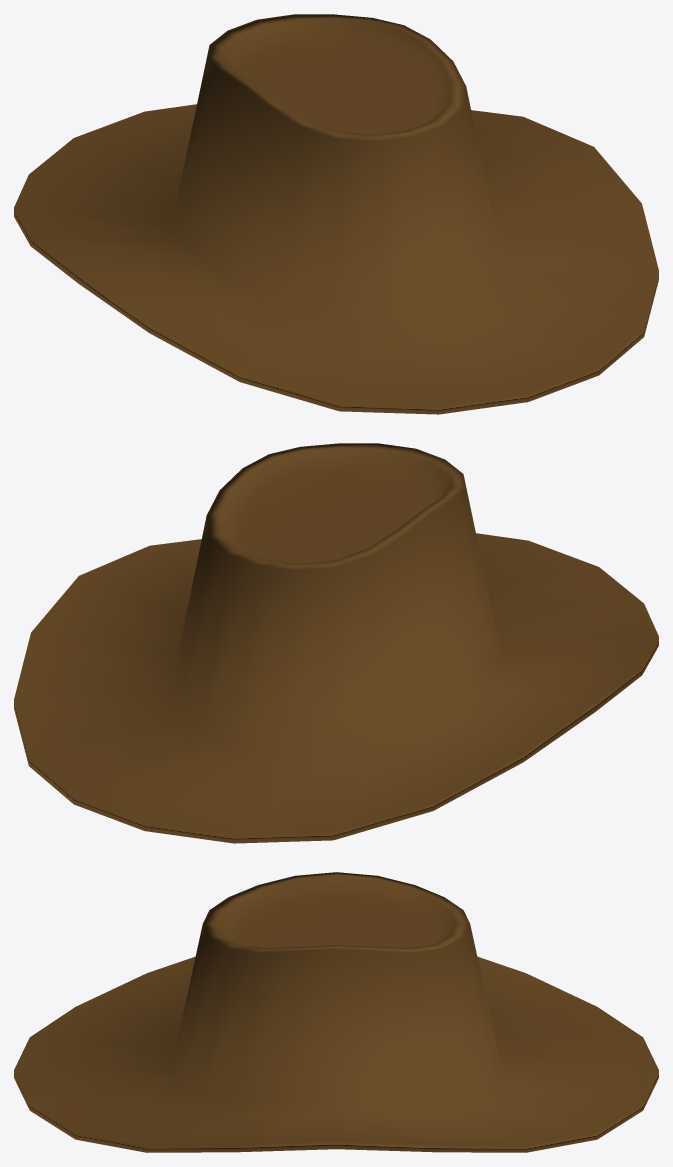
Rendered from SM_Prop_Hat.fbx.
The picture shows the model from 3 angles, top to bottom: view 1: azimuth 30°, elevation 25°; view 2: azimuth 150°, elevation 25°; view 3: azimuth 270°, elevation 25°; orthographic projection. The views are drawn at different scales.
Visible parts, largest first — view 1: geo_Prop_Hat; view 2: geo_Prop_Hat; view 3: geo_Prop_Hat.
Boxes of the visible parts, box(x1,y1,x2,y2) form: geo_Prop_Hat: box(14, 14, 658, 414); geo_Prop_Hat: box(14, 443, 658, 843); geo_Prop_Hat: box(14, 872, 658, 1152).
Size of the model in its own units: 36.37 by 13.39 by 46.75.
